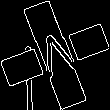M_S: (24, 23, 86, 87)
